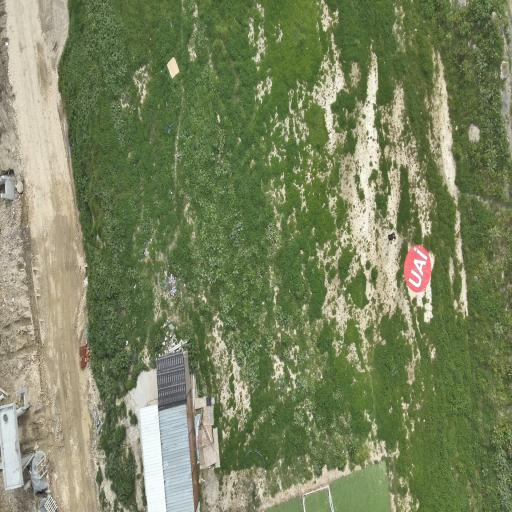UAI: (404, 246, 431, 292)
person: (388, 232, 395, 241)
